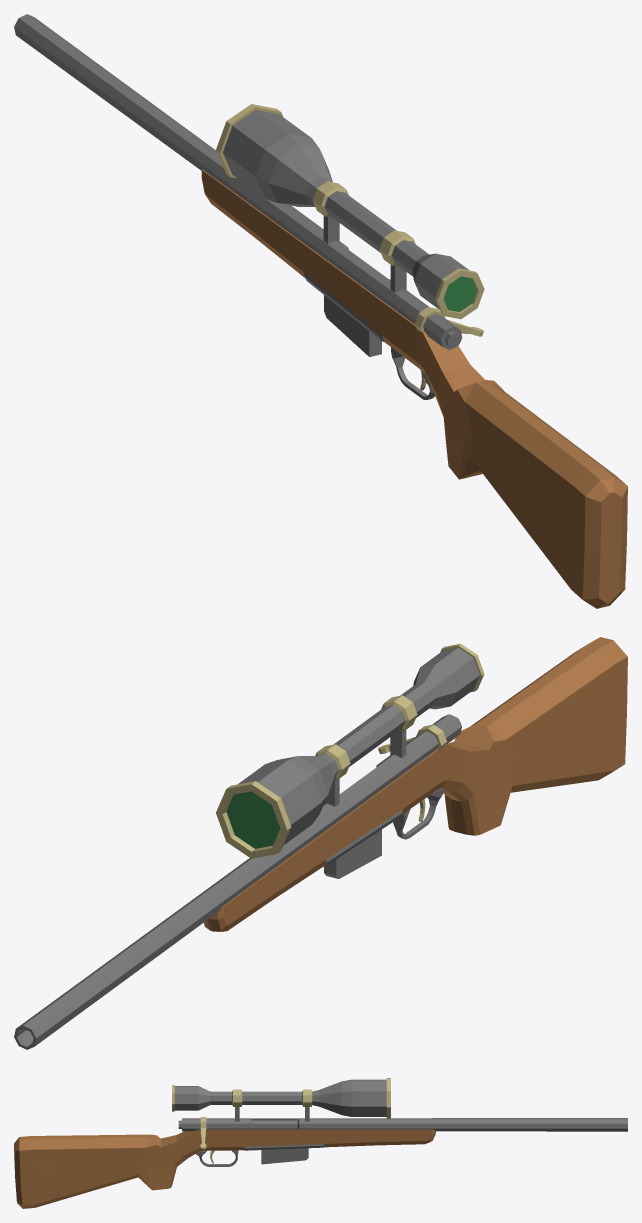
The model's file is AHKN-LV.glb.
3 views of the same model, one above another, from view 1: azimuth 30°, elevation 25°; view 2: azimuth 150°, elevation 25°; view 3: azimuth 270°, elevation 25° (orthographic). The views are drawn at different scales.
Parts seen in each view (by area): view 1: SniperRifle_B_8e2dd8, SniperRifle_B_6e8508, SniperRifle_B_b24701, SniperRifle_B_e0c3b1; view 2: SniperRifle_B_8e2dd8, SniperRifle_B_6e8508, SniperRifle_B_b24701, SniperRifle_B_e0c3b1; view 3: SniperRifle_B_8e2dd8, SniperRifle_B_6e8508, SniperRifle_B_b24701.
Boxes of the visible parts, bbox=[...] form: SniperRifle_B_8e2dd8: bbox=[201, 169, 627, 608]; SniperRifle_B_6e8508: bbox=[14, 14, 469, 399]; SniperRifle_B_b24701: bbox=[216, 104, 484, 390]; SniperRifle_B_e0c3b1: bbox=[443, 276, 477, 311]; SniperRifle_B_8e2dd8: bbox=[204, 637, 627, 931]; SniperRifle_B_6e8508: bbox=[14, 647, 479, 1049]; SniperRifle_B_b24701: bbox=[216, 643, 484, 858]; SniperRifle_B_e0c3b1: bbox=[226, 791, 280, 848]; SniperRifle_B_8e2dd8: bbox=[14, 1129, 435, 1208]; SniperRifle_B_6e8508: bbox=[174, 1079, 627, 1166]; SniperRifle_B_b24701: bbox=[172, 1078, 390, 1163].
Size of the model in its own units: 0.0865 by 0.2309 by 1.
